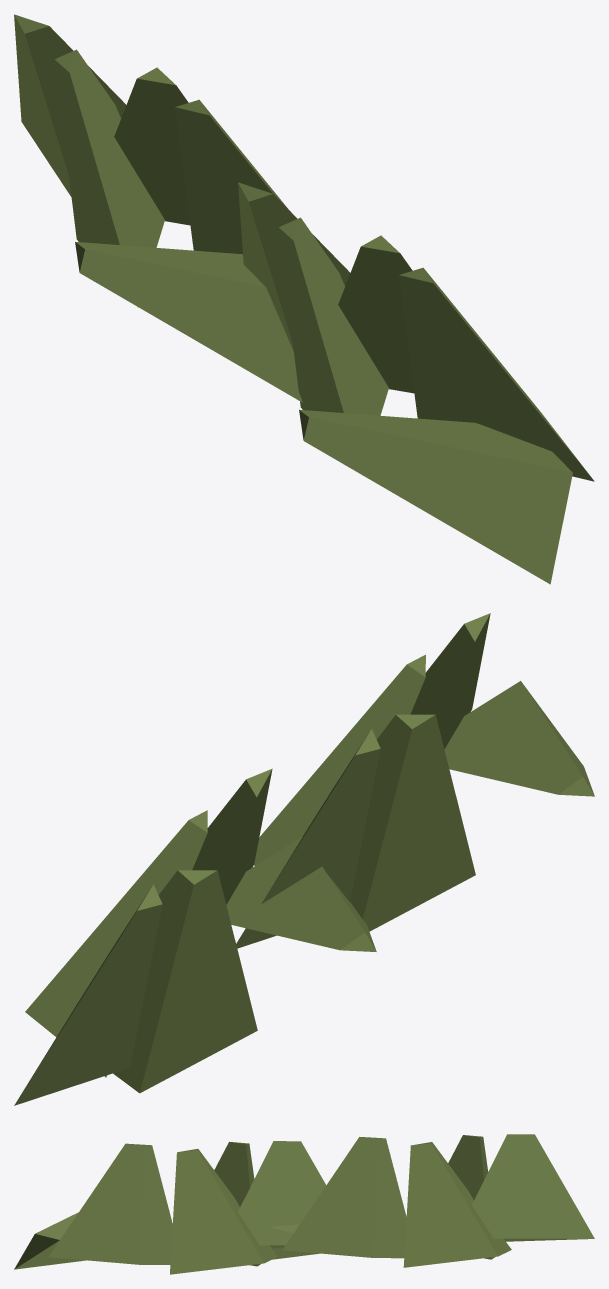
The model's file is Gras_widet.fbx.
3 views of the same model, one above another, from view 1: azimuth 30°, elevation 25°; view 2: azimuth 150°, elevation 25°; view 3: azimuth 270°, elevation 25° (orthographic). The views are drawn at different scales.
Visible parts, largest first — view 1: Gras_wide; view 2: Gras_wide; view 3: Gras_wide.
Boxes of the visible parts, bbox=[...] form: Gras_wide: bbox=[14, 14, 594, 584]; Gras_wide: bbox=[14, 613, 594, 1105]; Gras_wide: bbox=[14, 1134, 594, 1274].
Size of the model in its own units: 259 by 245 by 1006.
